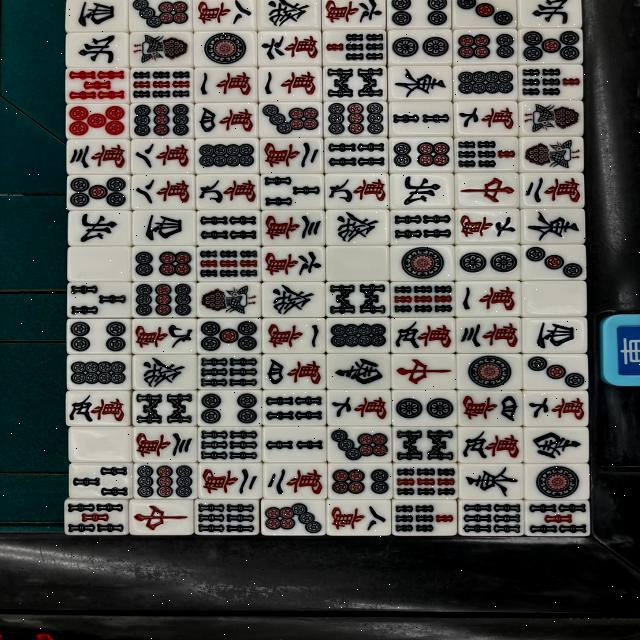bamboos_1: (518, 135, 586, 174), (518, 99, 586, 135), (197, 281, 263, 317), (129, 32, 194, 68)
bamboos_2: (264, 425, 326, 464), (387, 102, 455, 135)
bamboos_3: (260, 172, 326, 212), (66, 281, 132, 318), (68, 462, 132, 498)
bamboos_4: (323, 134, 389, 176), (261, 388, 328, 425), (390, 207, 454, 243), (198, 210, 261, 244)
bamboos_5: (65, 66, 131, 102), (63, 498, 129, 534), (523, 501, 589, 535)
bamboos_6: (458, 500, 523, 536), (193, 500, 261, 534), (198, 426, 264, 460), (198, 354, 261, 389)
bamboos_7: (392, 499, 459, 536), (321, 27, 388, 64), (518, 64, 586, 100), (453, 136, 519, 172)
bamboos_8: (326, 279, 390, 318), (323, 65, 389, 102), (131, 390, 197, 425), (394, 428, 456, 463)
bamboos_9: (393, 461, 461, 499), (196, 243, 261, 281), (388, 282, 454, 318), (128, 68, 194, 103)
characters_1: (255, 66, 321, 103), (259, 317, 325, 354), (455, 281, 522, 317), (191, 69, 258, 102)
characters_2: (517, 171, 587, 208), (263, 461, 327, 501), (258, 137, 323, 176), (196, 462, 263, 498)
characters_3: (133, 426, 200, 464), (455, 317, 522, 353), (66, 137, 129, 174), (259, 210, 325, 245)
characters_4: (193, 102, 260, 136), (261, 354, 326, 389), (459, 391, 522, 427)
characters_5: (390, 316, 457, 353), (459, 426, 523, 464), (66, 391, 132, 426)
characters_6: (258, 26, 324, 69), (260, 245, 326, 281)
characters_7: (452, 99, 519, 138), (326, 388, 393, 427), (522, 390, 588, 428), (454, 208, 520, 245)
characters_8: (325, 501, 391, 536), (132, 139, 193, 175), (130, 176, 194, 209)
characters_9: (324, 172, 388, 210), (194, 174, 257, 211), (130, 318, 196, 352)
circles_1: (191, 29, 258, 66), (524, 462, 591, 498), (389, 245, 454, 281), (458, 354, 522, 389)
circles_2: (384, 28, 454, 68), (389, 389, 456, 426), (452, 246, 520, 280)
circles_3: (520, 245, 588, 282), (522, 354, 589, 390)
circles_4: (199, 388, 260, 426), (67, 318, 131, 354)
circles_5: (518, 27, 584, 64), (64, 102, 131, 137), (67, 174, 131, 210), (197, 318, 259, 354)
circles_6: (130, 244, 198, 280), (326, 462, 393, 498), (389, 136, 452, 174), (452, 30, 518, 66)
circles_7: (257, 102, 321, 139), (259, 500, 326, 534), (325, 426, 391, 460)
circles_8: (192, 138, 260, 174), (452, 64, 518, 101), (65, 354, 132, 389), (326, 316, 391, 352)
circles_9: (129, 461, 199, 501), (128, 101, 194, 140), (324, 100, 388, 138), (129, 282, 196, 318)
east: (519, 208, 586, 244), (388, 66, 454, 102), (458, 464, 525, 499)
green: (129, 354, 197, 392), (260, 281, 325, 318), (326, 210, 387, 243)
north: (64, 30, 132, 67), (388, 171, 455, 208), (68, 210, 131, 244)
red: (129, 498, 197, 536), (389, 354, 457, 391), (452, 170, 518, 208)
south: (522, 426, 589, 464), (328, 352, 391, 391)
west: (521, 316, 587, 353), (133, 208, 199, 242)
white: (67, 426, 132, 464), (523, 280, 587, 318), (68, 245, 131, 282), (328, 243, 388, 280)
